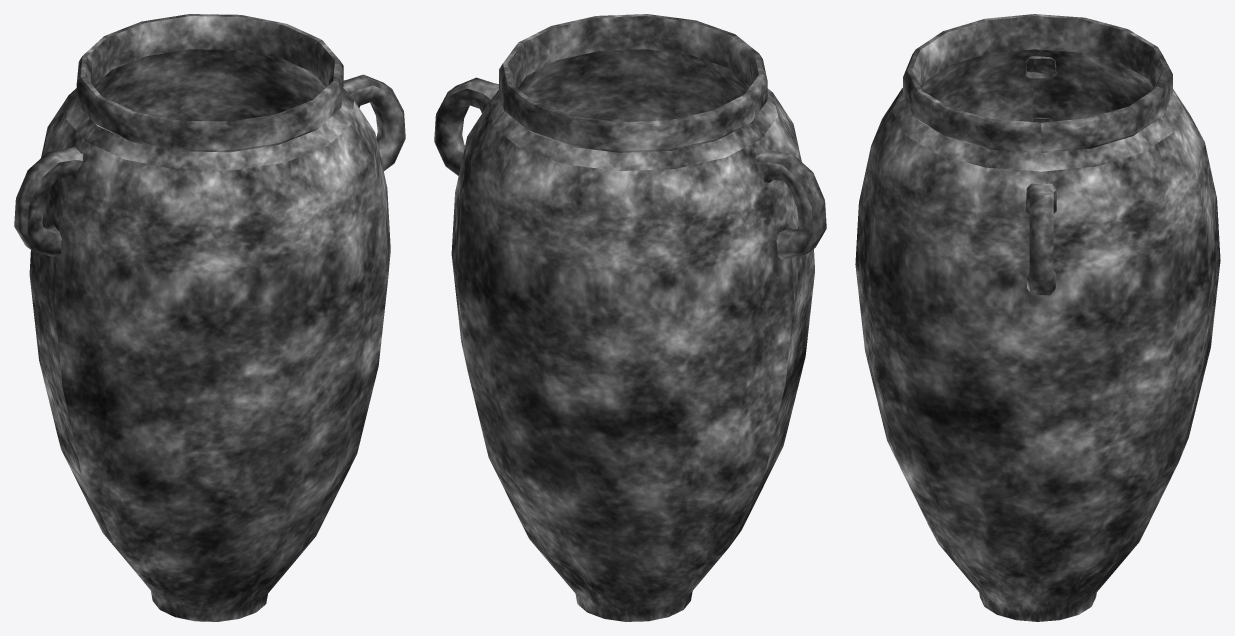
File: SM_vase_04.fbx
3 renders of one model, left to right at view 1: azimuth 30°, elevation 25°; view 2: azimuth 150°, elevation 25°; view 3: azimuth 270°, elevation 25°, orthographic.
Visible parts, largest first — view 1: SM_vase_04_LOD0; view 2: SM_vase_04_LOD0; view 3: SM_vase_04_LOD0.
Boxes of the visible parts, x1,y1,x2,y2 form: SM_vase_04_LOD0: (14, 14, 405, 621); SM_vase_04_LOD0: (434, 14, 826, 621); SM_vase_04_LOD0: (855, 14, 1220, 621).
Bounding box in the file's own units: 102 × 84.05 × 134.
